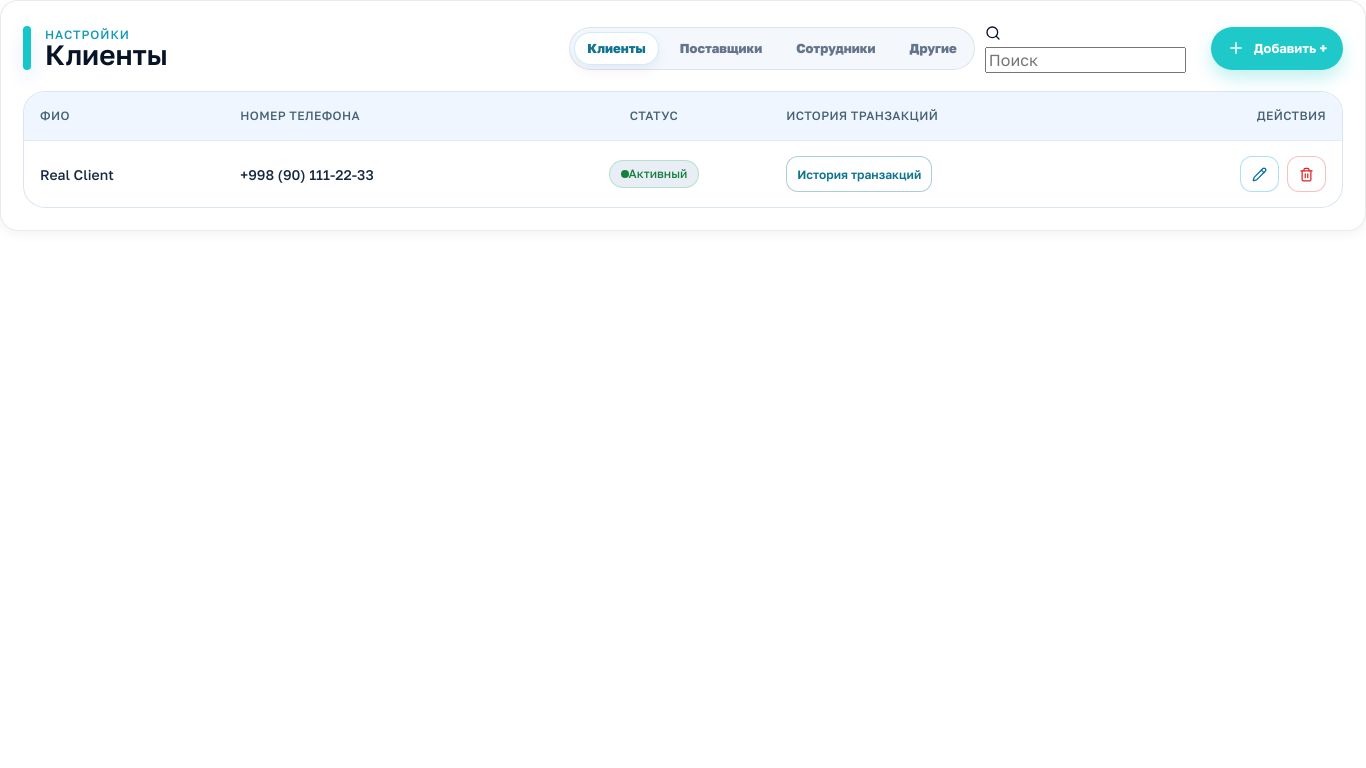
Test: SettingsClientsPage (counterparties V1) › opens Add as a CENTERED Payment-Methods modal, not a right drawer
Expected: the text "Real Client" is shown, [24,140,224,207]
Click the button "Добавить +": (1277, 48) [1211,26,1343,70]
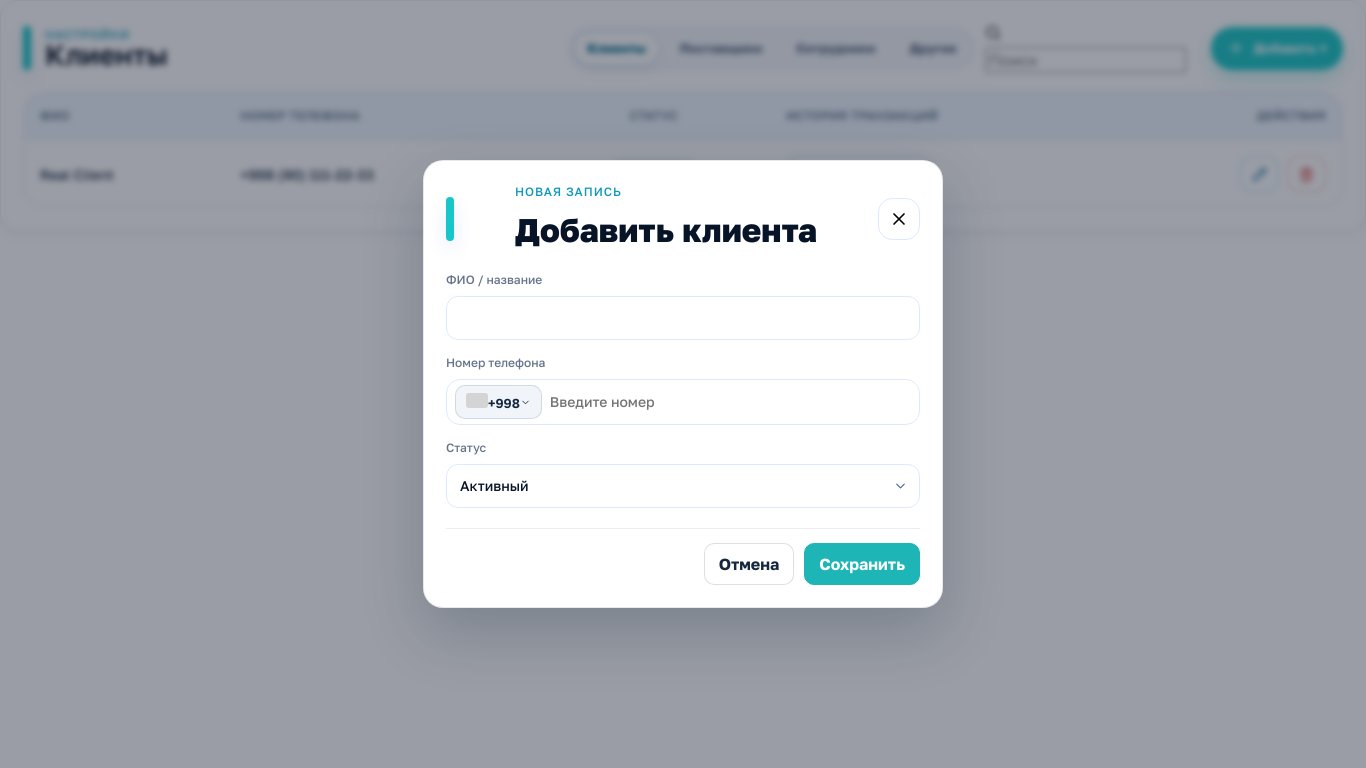
Now the element with class "settings-modal-overlay" is shown
Now the element with class "settings-drawer__backdrop" is shown
Now the text "Новая запись" is shown, box [515,184,622,199]
# X closes, overlay closes.
Click the button named "Закрыть": (899, 219) [878,198,920,240]
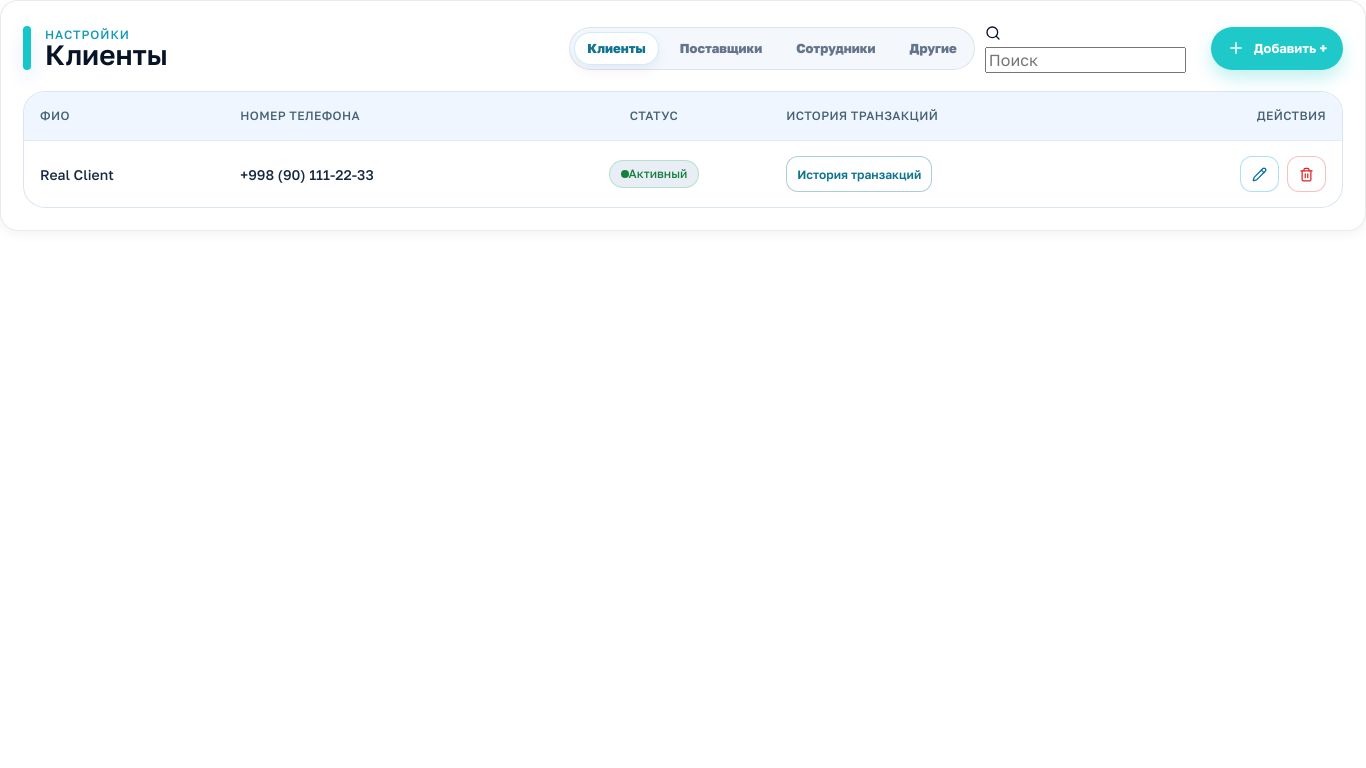
Now the dialog is gone
